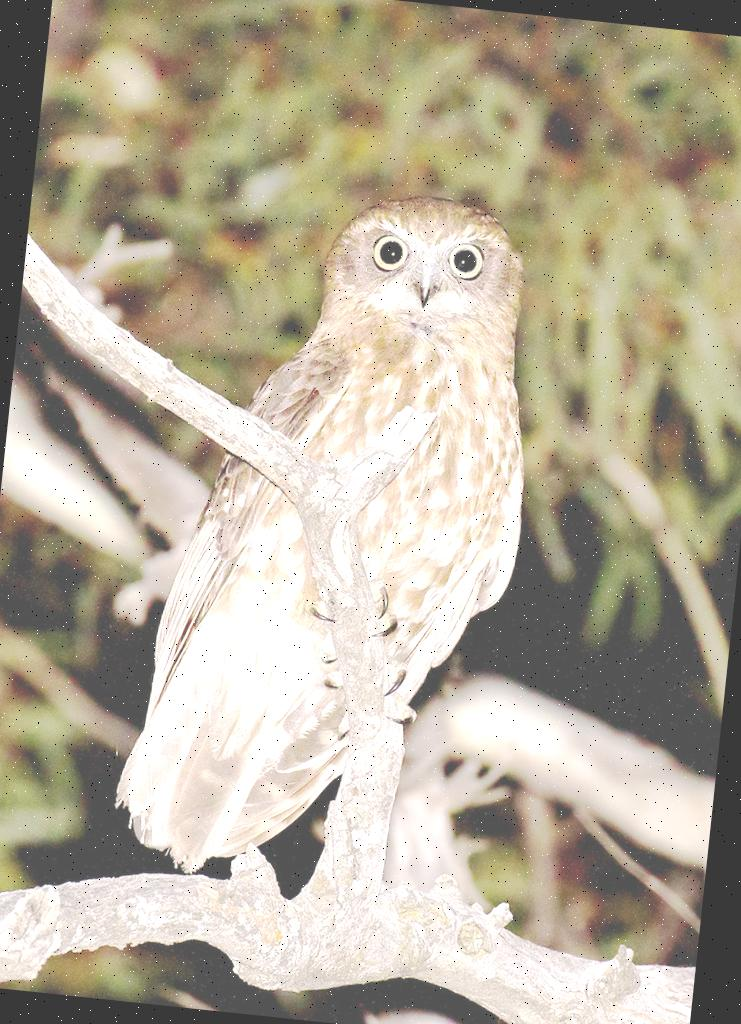Owl: (102, 168, 557, 908)
